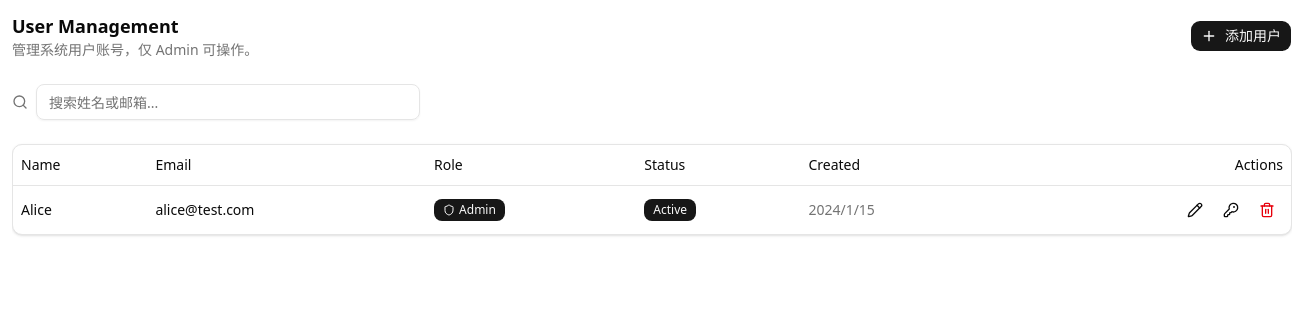
Test: UsersPage › shows error message when delete fails
This screenshot has width=1304, height=315.
Expected: the text "Alice" is shown, [13, 185, 147, 234]
Click the button titled "删除".
click(1267, 210)  # box [1251, 194, 1283, 226]
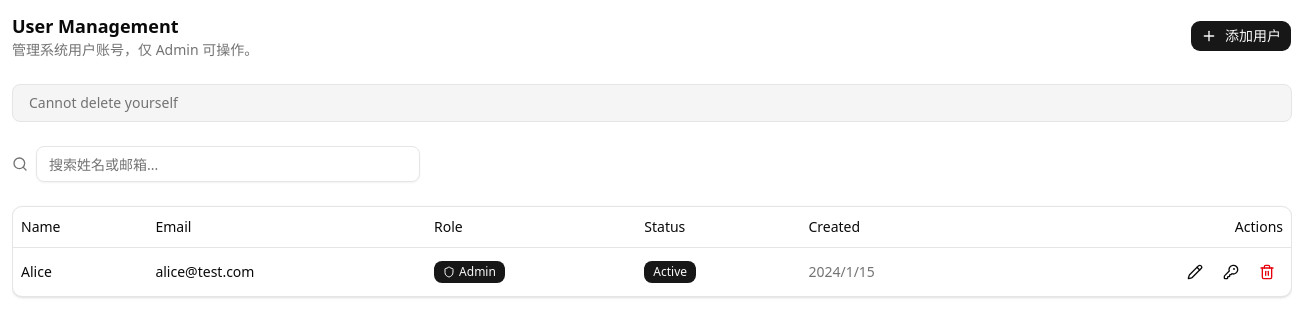
Expected: the text "Cannot delete yourself" is shown, [12, 84, 1292, 122]
